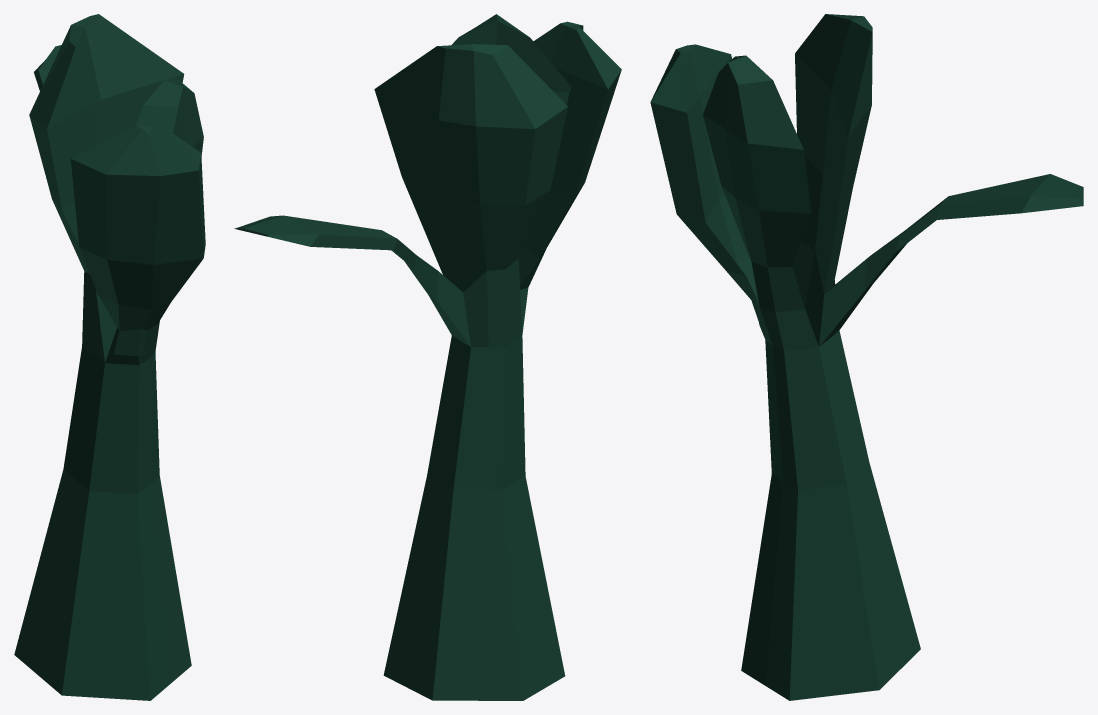
Rendered from 1-1_pea.glb.
3 views of the same model, side by side, from view 1: azimuth 30°, elevation 25°; view 2: azimuth 150°, elevation 25°; view 3: azimuth 270°, elevation 25° (orthographic). The views are drawn at different scales.
Parts seen in each view (by area): view 1: Цилиндр; view 2: Цилиндр; view 3: Цилиндр.
Boxes of the visible parts, bbox=[...] form: Цилиндр: bbox=[14, 14, 205, 700]; Цилиндр: bbox=[234, 14, 621, 700]; Цилиндр: bbox=[650, 14, 1083, 700].
Bounding box in the file's own units: 0.0636 × 0.2012 × 0.1225.
